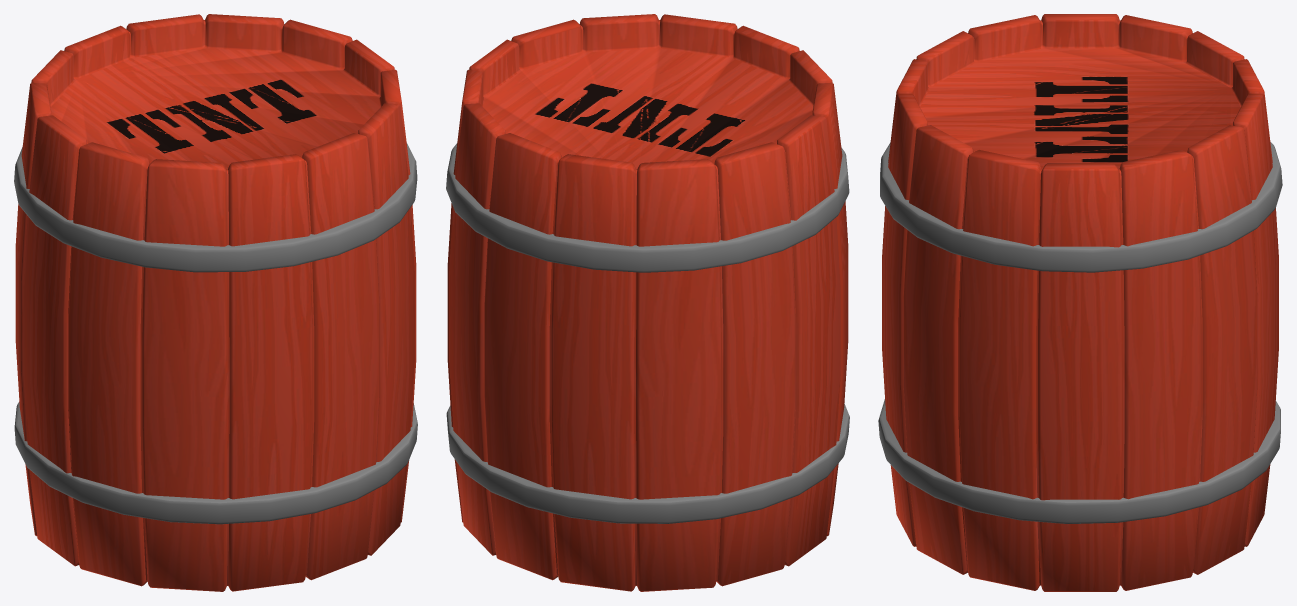
File: TNTBarrel.fbx
3 renders of one model, left to right at view 1: azimuth 30°, elevation 25°; view 2: azimuth 150°, elevation 25°; view 3: azimuth 270°, elevation 25°, orthographic.
Visible parts, largest first — view 1: Cylinder; view 2: Cylinder; view 3: Cylinder.
Boxes of the visible parts, left/top/right/bottom form: Cylinder: left=14, top=14, right=417, bottom=591; Cylinder: left=446, top=14, right=849, bottom=591; Cylinder: left=878, top=14, right=1282, bottom=591.
Size of the model in its own units: 86.45 by 100 by 86.62.
